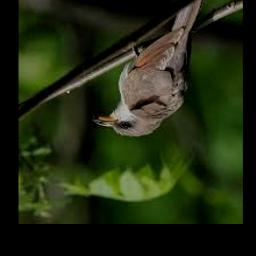Cuckoo: (94, 0, 207, 136)
